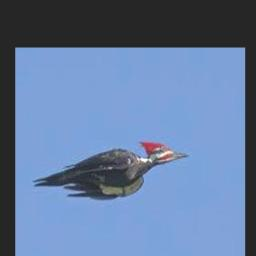Woodpecker: (32, 141, 189, 199)
